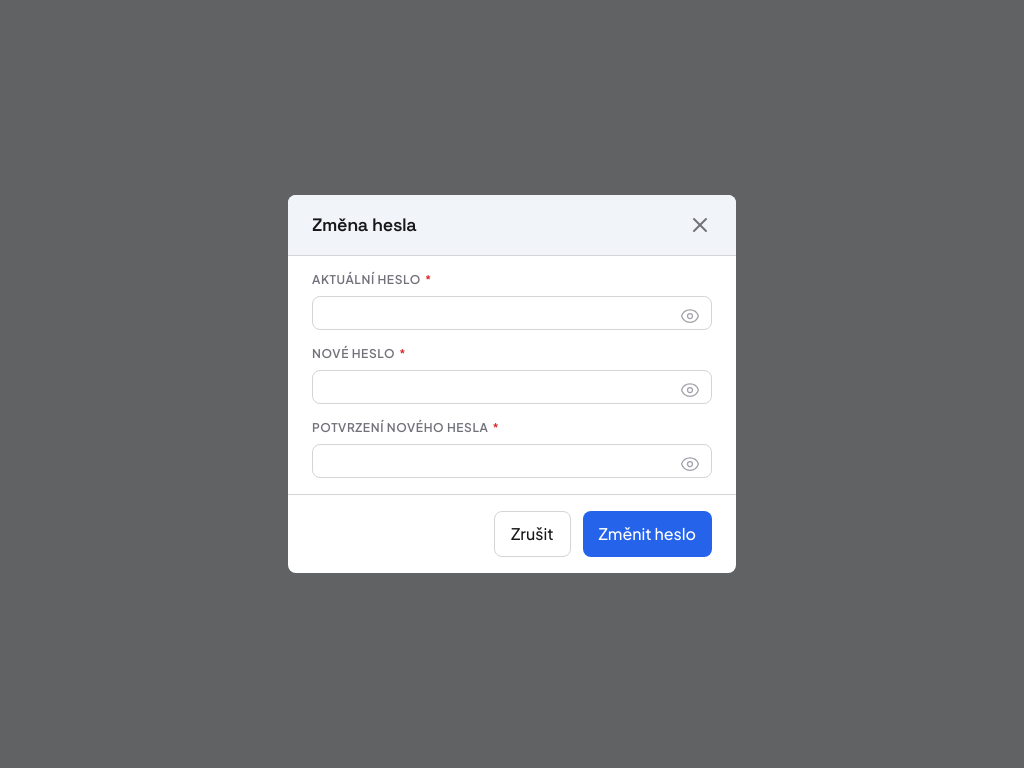
Test: ChangePasswordDialog › client-side validation › blocks submission when confirmation does not match new password
Type "OldPassword1!" into the password field labelled "Aktuální heslo*".
click(512, 313); type("OldPassword1!")  # box top-left (312, 296), bottom-right (712, 330)
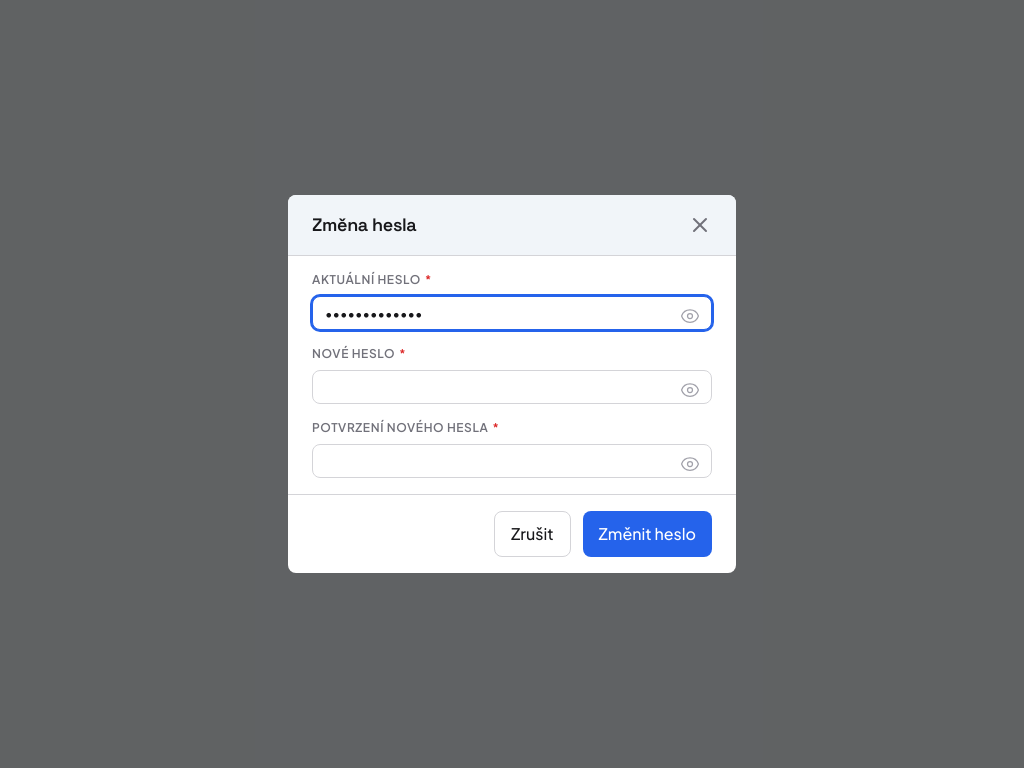
Type "NewStrongPassword1!" into the password field labelled "Nové heslo*".
click(512, 387); type("NewStrongPassword1!")  # box top-left (312, 370), bottom-right (712, 404)
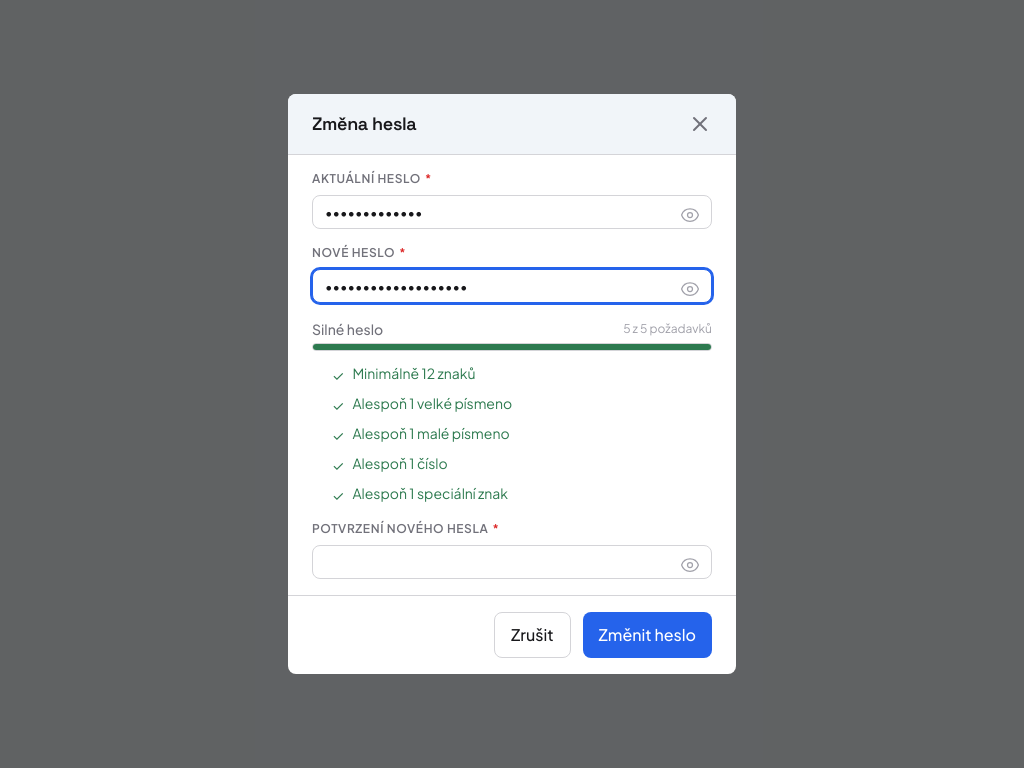
Type "DifferentPassword1!" into the password field labelled "Potvrzení nového hesla*".
click(512, 562); type("DifferentPassword1!")  # box top-left (312, 545), bottom-right (712, 579)
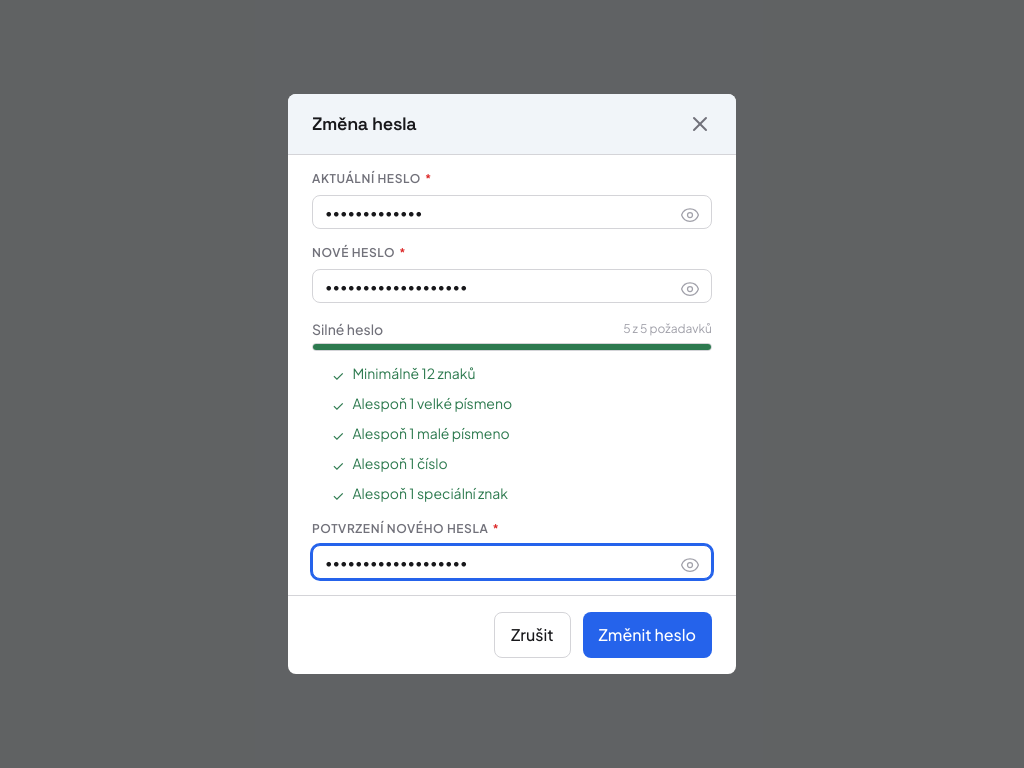
Click the button "Změnit heslo".
click(647, 635)  # box top-left (583, 612), bottom-right (712, 658)
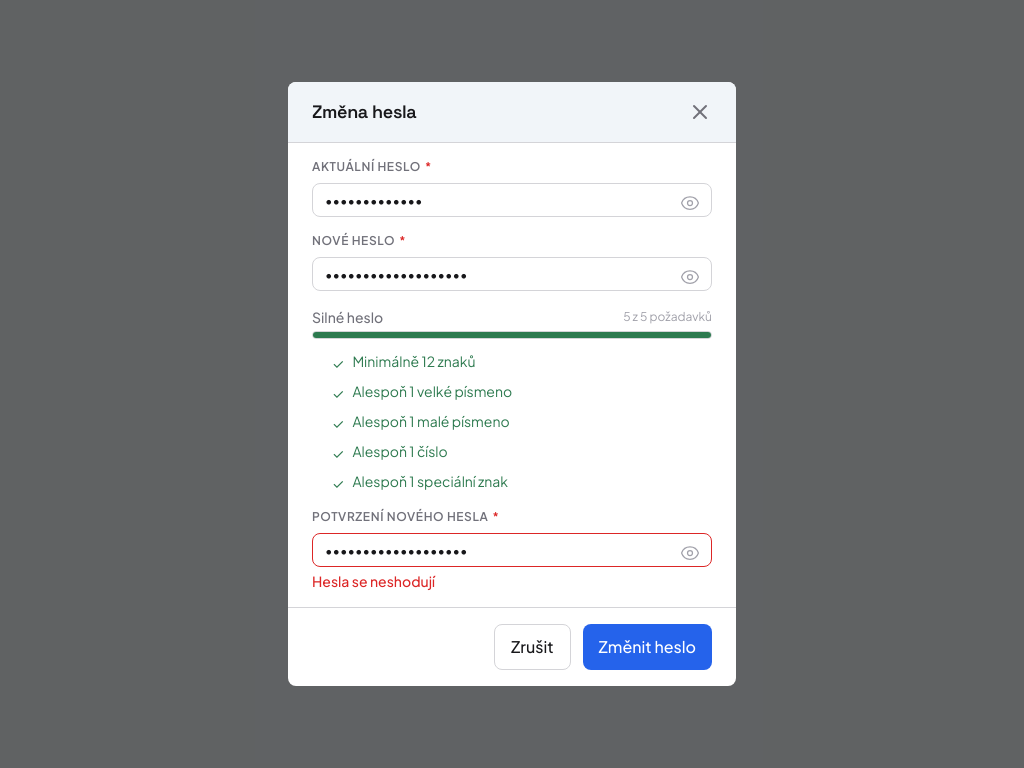
Now the text "Hesla se neshodují" is shown, box top-left (312, 572), bottom-right (435, 590)
